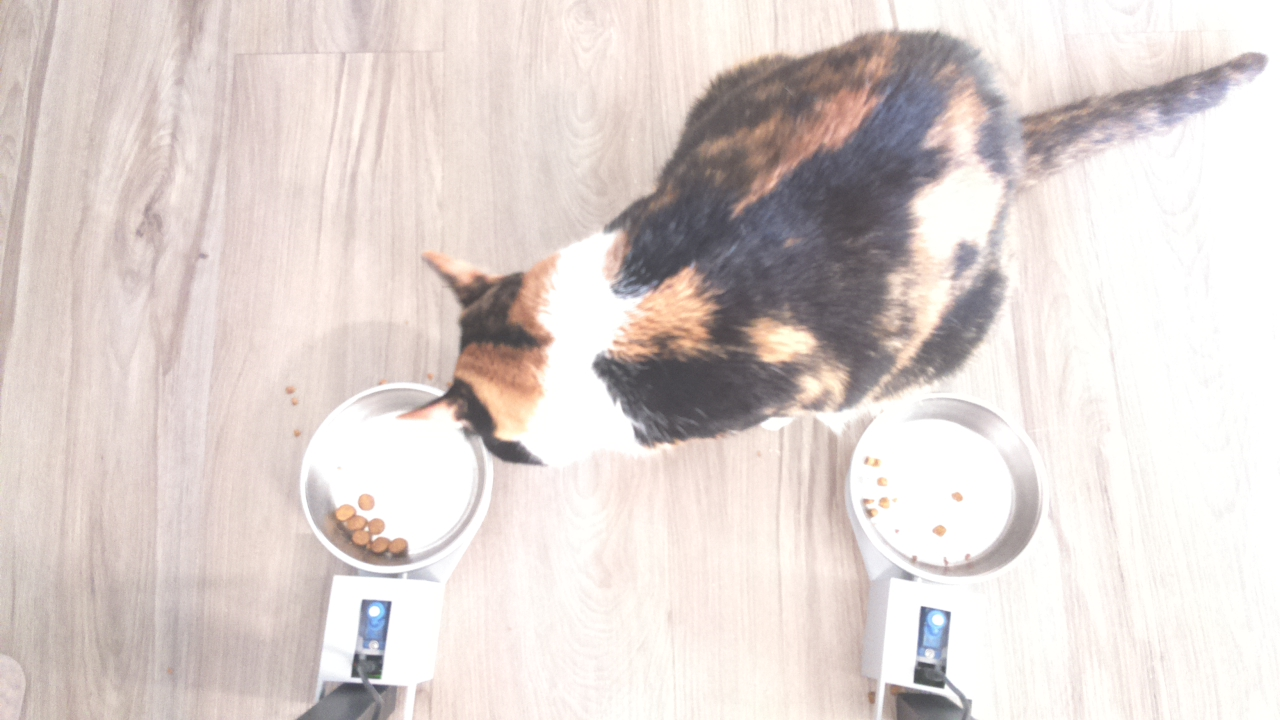bella: (398, 246, 636, 476)
open_bowl: (843, 392, 1047, 586), (304, 379, 495, 572)
